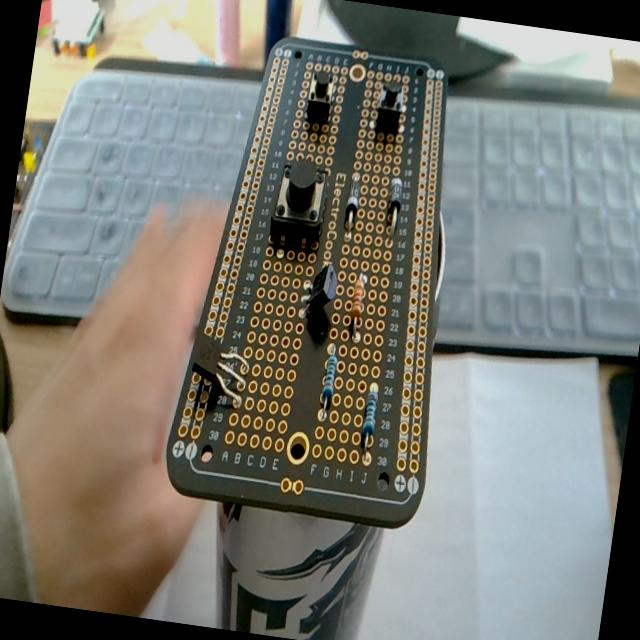diode: (341, 158, 368, 244), (379, 159, 406, 235)
resistor: (313, 331, 352, 438), (354, 376, 386, 470), (344, 260, 376, 348)
switch: (268, 153, 334, 244), (299, 50, 342, 124), (373, 76, 411, 132)
transistor: (188, 324, 254, 416), (289, 260, 341, 329)
